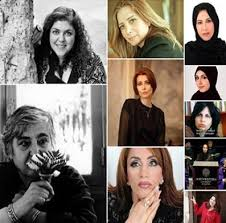middle_eastern_Female: (118, 4, 150, 45), (50, 15, 80, 56), (134, 67, 155, 97), (194, 106, 214, 131)
